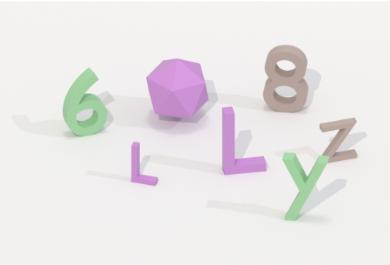0-TronCanh: (143, 54, 210, 124)
6: (57, 64, 112, 140)
8: (259, 40, 314, 118)
L: (217, 103, 271, 180), (127, 138, 164, 190)
Z: (314, 114, 365, 166)
y: (275, 150, 330, 226)
